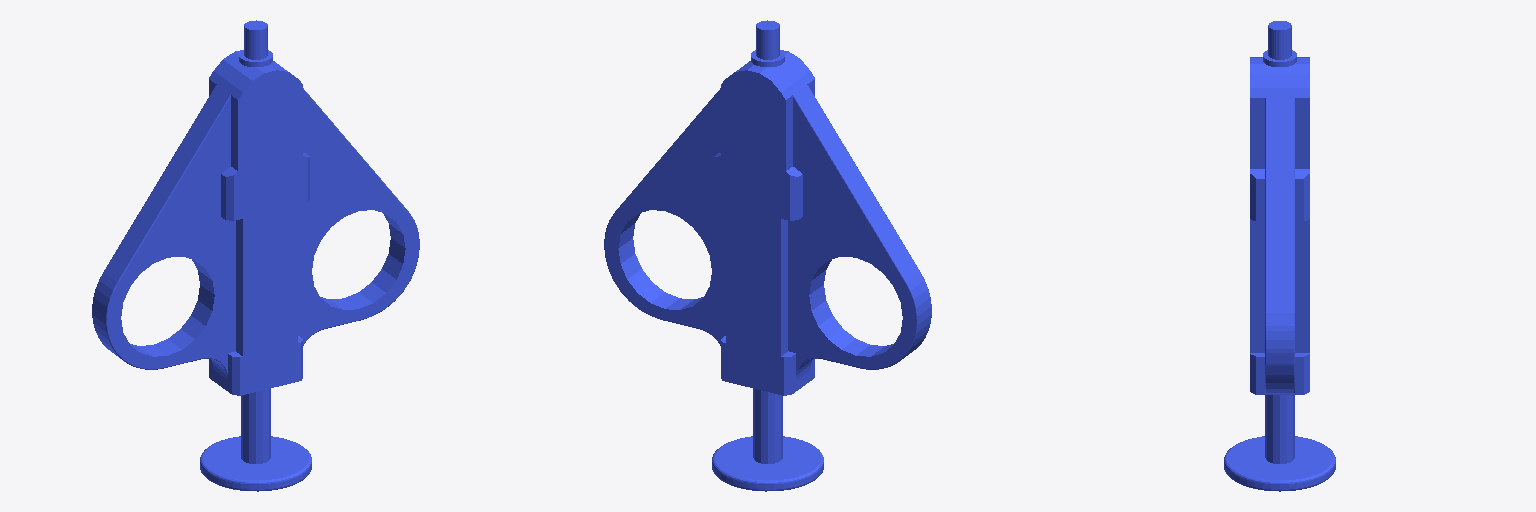
robot.urdf — coreNeedle2:
<?xml version="1.0" encoding="utf-8"?>
<!-- This URDF was automatically created by SolidWorks to URDF Exporter! Originally created by [author] ([email redacted]) 
     Commit Version: 1.6.0-1-g15f4949  Build Version: 1.6.7594.29634
     For more information, please see http://wiki.ros.org/sw_urdf_exporter -->
<robot
  name="coreNeedle2">
  <link
    name="base_link">
    <inertial>
      <origin
        xyz="-3.5578E-17 -3.0632E-19 -0.039348"
        rpy="0 0 0" />
      <mass
        value="0.017004" />
      <inertia
        ixx="5.5903E-06"
        ixy="-3.3984E-14"
        ixz="-1.1843E-20"
        iyy="7.1981E-06"
        iyz="-1.5113E-22"
        izz="1.8241E-06" />
    </inertial>
    <visual>
      <origin
        xyz="0 0 0"
        rpy="0 0 0" />
      <geometry>
        <mesh
          filename="package://coreNeedle2/meshes/base_link.STL" />
      </geometry>
      <material
        name="">
        <color
          rgba="0.34118 0.44706 1 1" />
      </material>
    </visual>
    <collision>
      <origin
        xyz="0 0 0"
        rpy="0 0 0" />
      <geometry>
        <mesh
          filename="package://coreNeedle2/meshes/base_link.STL" />
      </geometry>
    </collision>
  </link>
</robot>

--- What the picture shows (computed from the rendered views, not written in the file) ---
Views: 3 orthographic renders of the robot side by side, from view 1: azimuth 30°, elevation 25°; view 2: azimuth 150°, elevation 25°; view 3: azimuth 270°, elevation 25°.
Model coreNeedle2 with 1 links and 0 joints (none), rooted at base_link, posed every joint at zero.
Links seen in each view (by area): view 1: base_link; view 2: base_link; view 3: base_link.
Boxes of the visible links, x1,y1,x2,y2 form: base_link: (92,20,419,491); base_link: (604,20,931,491); base_link: (1224,21,1335,491).
Bounding box of the posed robot: 0.0612 × 0.019 × 0.0826 m (x, y, z).
1 mesh visuals loaded from 1 distinct referenced files (1 binary STL).